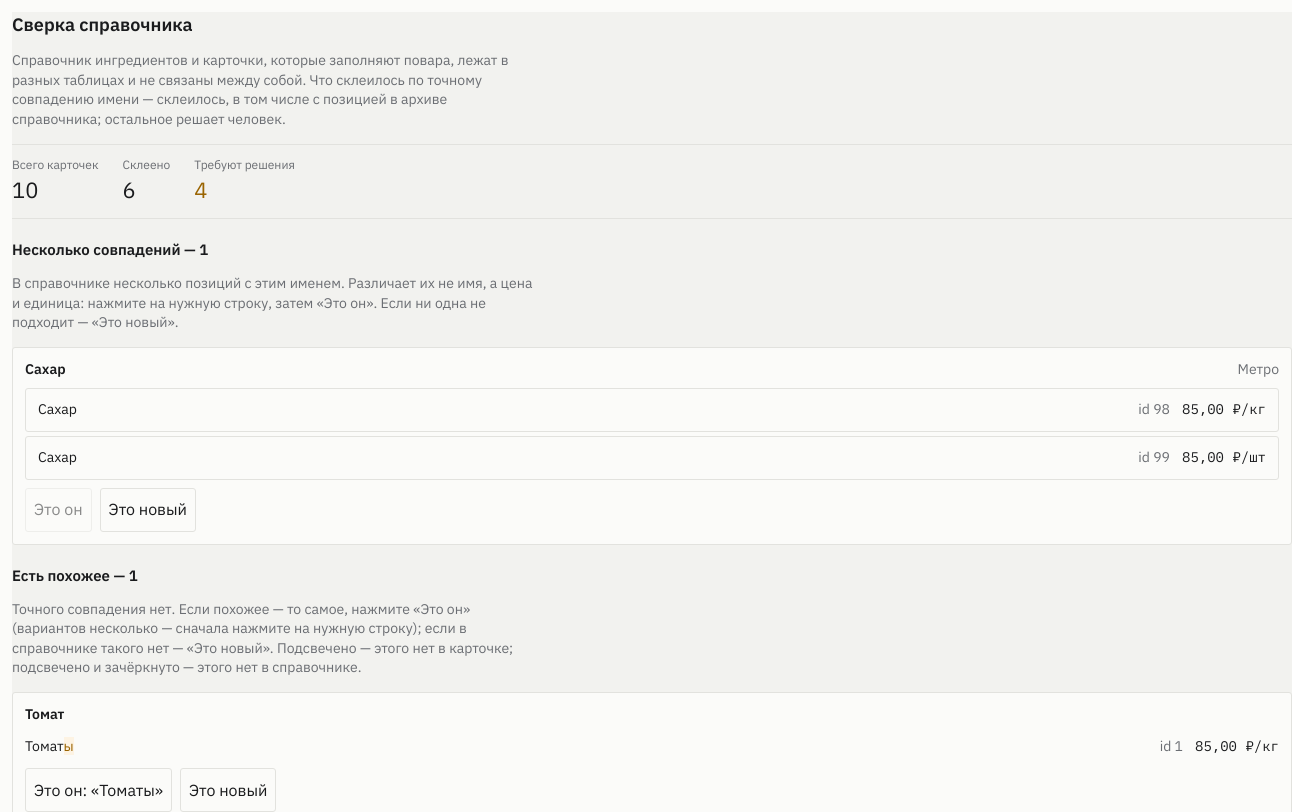
Scenario: кандидат один — выбирать не из чего: «Это он: «Томаты»» сразу подтверждает пару
Expected: the text "id 1" is shown, [1160,736,1183,756]
Expected: the 2nd text "85,00 ₽/кг" is shown, [1195,736,1279,756]
Click the button "Это он: «Томаты»" at (98, 790), box [25,768,172,811]
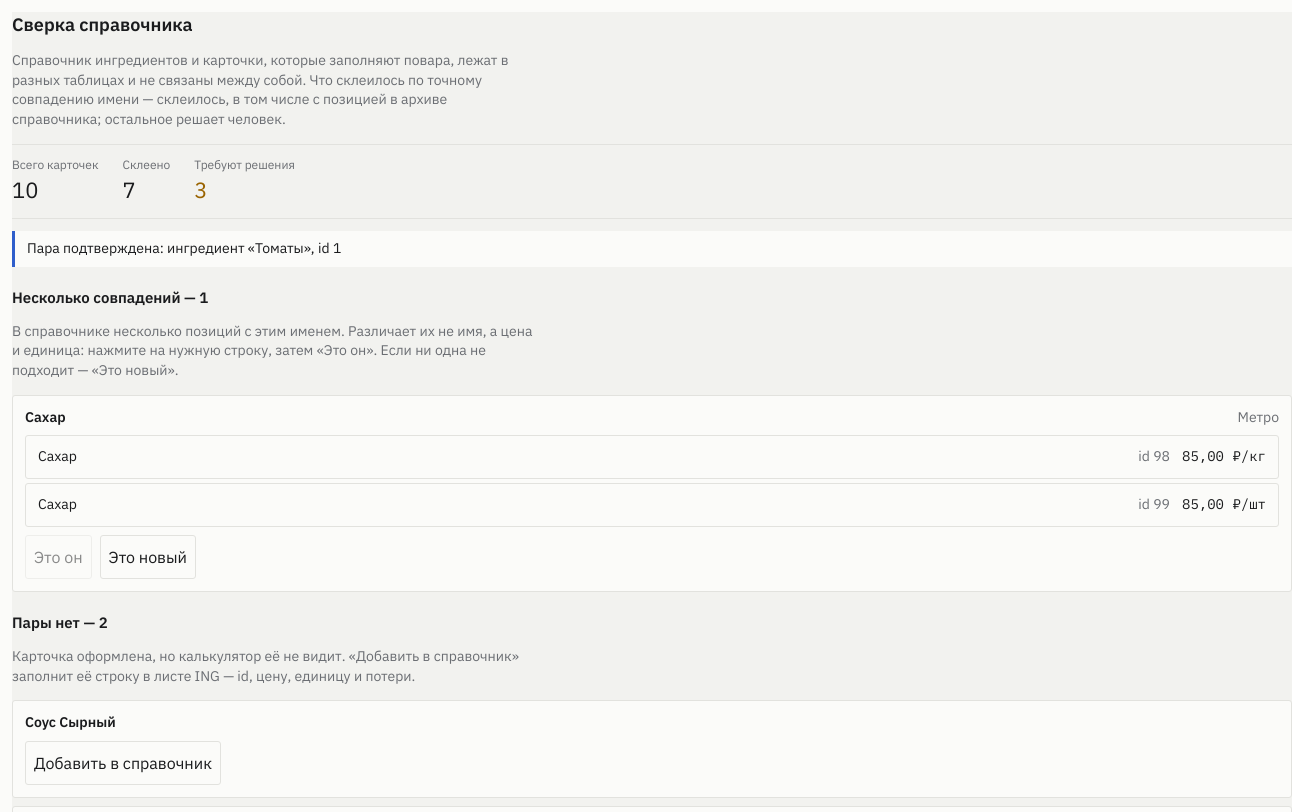
Expected: the text "Пара подтверждена: ингредиент «Томаты», id 1" is shown, [27,239,341,257]
